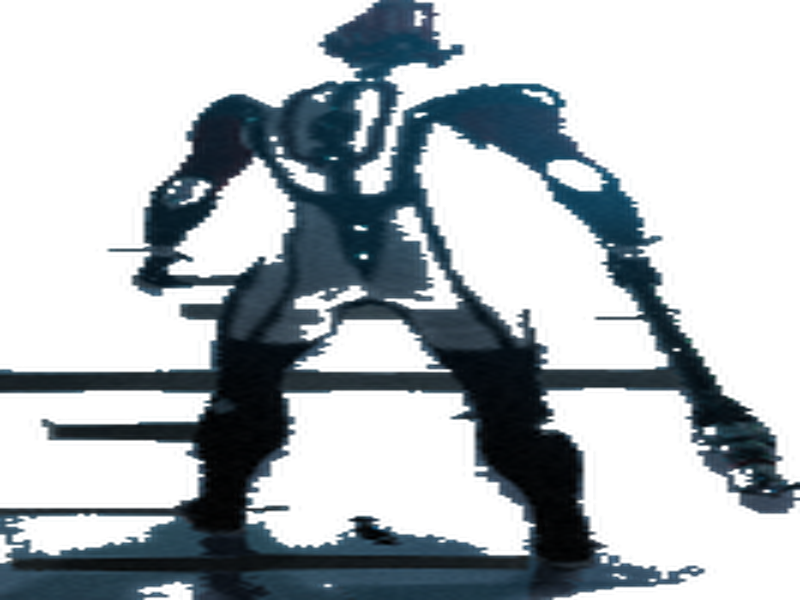corpus: (96, 1, 797, 600)
